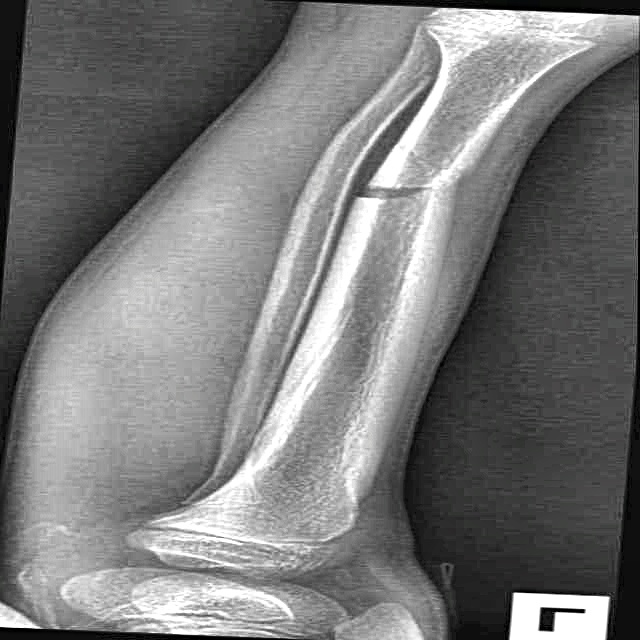Greenstick: (328, 152, 513, 225)
